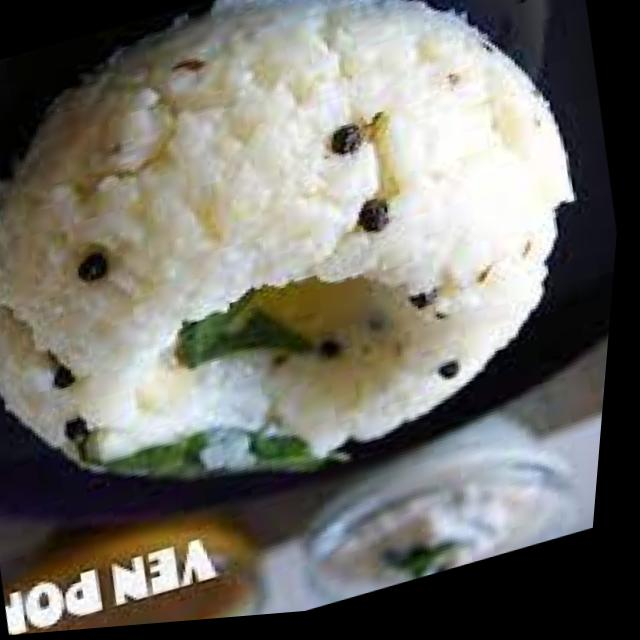PONGAL: (0, 0, 574, 477)
